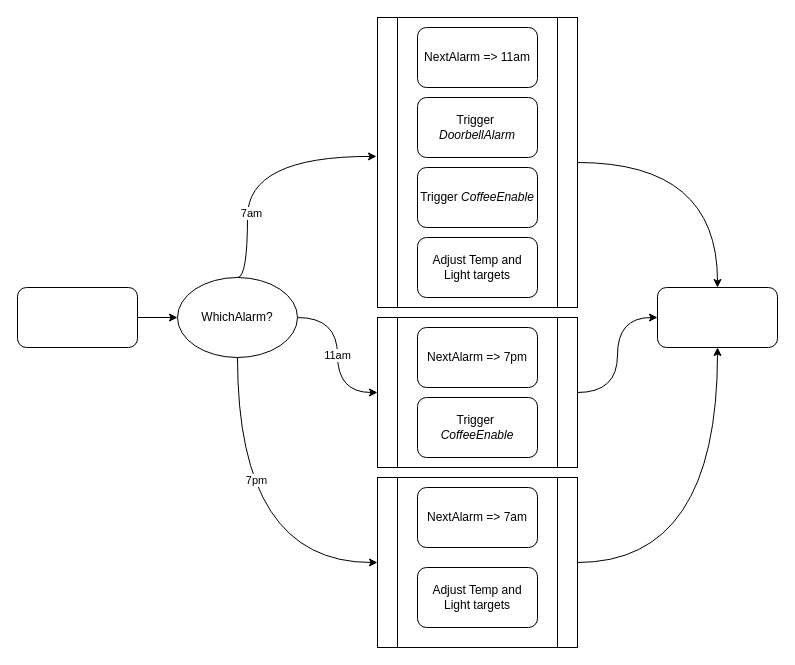
Some shapes in this 795 by 665 pixel diagram are drawn without their labels. Here are the shapes that lost their labels. From the top down, the centre of each, then its label:
At [77,317]: "ClockAlarm".
At [717,317]: "Idle".
